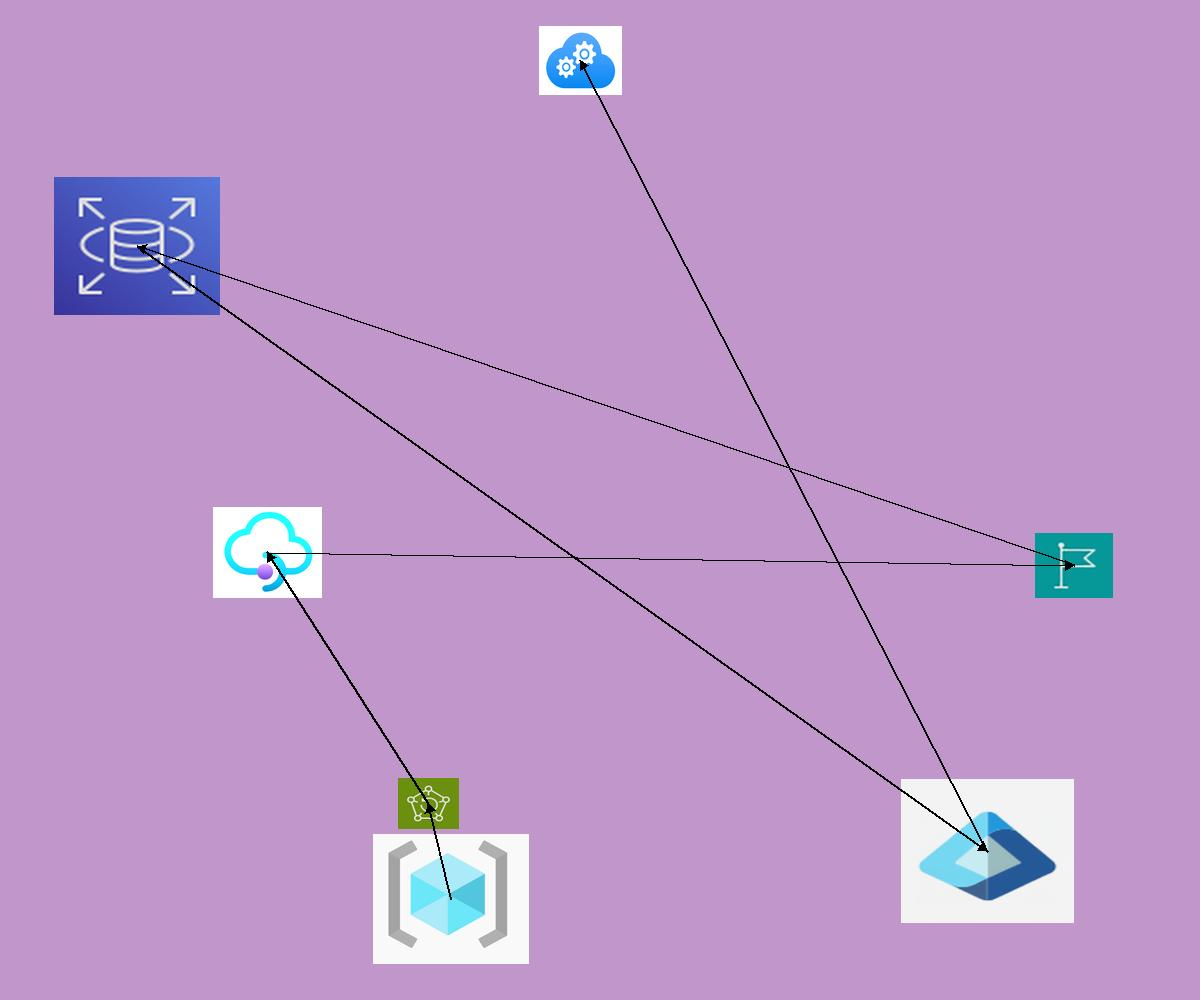AWS-Backup: (398, 778, 459, 829)
AWS-RDS: (54, 177, 220, 315)
AWS-Region: (1035, 533, 1113, 598)
Azure_api_gateway: (213, 507, 322, 598)
Azure_cloud_services: (539, 26, 622, 95)
Azure_microsoft_entra: (901, 779, 1074, 923)
Azure_resource_group: (373, 834, 529, 964)
